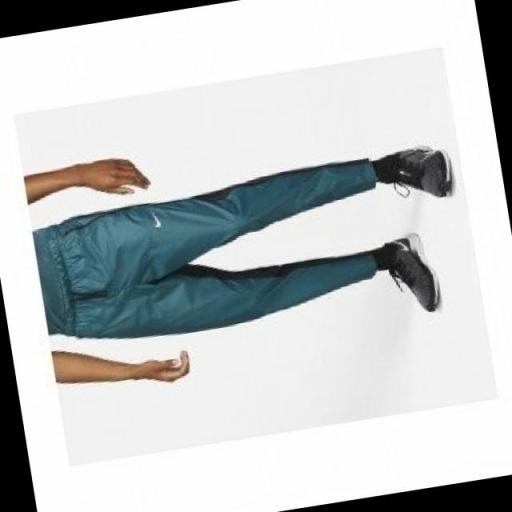Nike: (142, 207, 165, 233)
